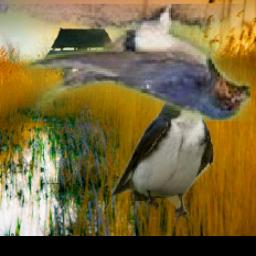Swallow: (0, 4, 250, 121), (111, 86, 215, 220)
